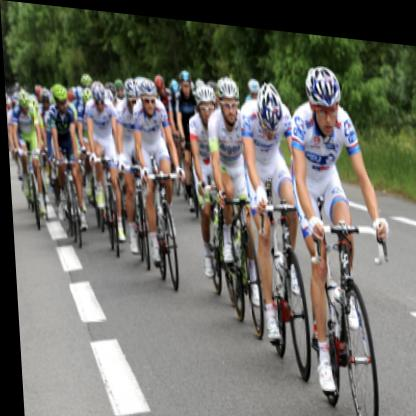With Helmet: (301, 54, 348, 132), (252, 70, 285, 141), (210, 68, 242, 123), (135, 72, 160, 118), (48, 75, 71, 116), (12, 83, 32, 122), (86, 74, 107, 111)
